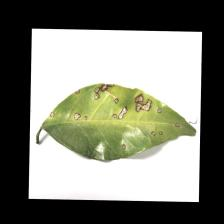canker: (46, 81, 184, 152)
